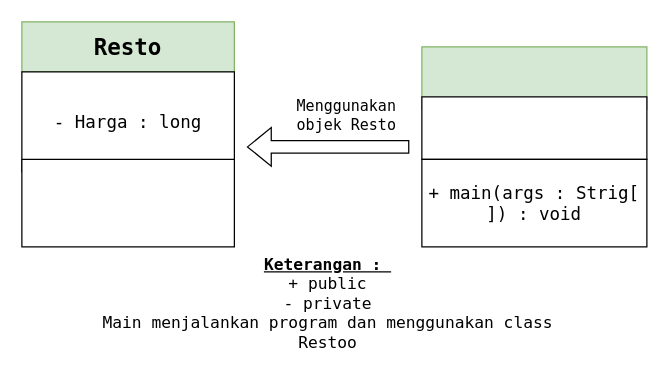
Image size: 669x374. Some labels were removed from this diagram. Each missing label, with the box of its shape:
+ chooseMenu() : void - getPrices : long: (21, 158, 234, 247)
Main: (421, 46, 647, 109)
